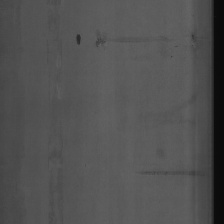oil_spot: (43, 3, 66, 223), (94, 32, 172, 49), (135, 164, 208, 181), (75, 32, 83, 48)
